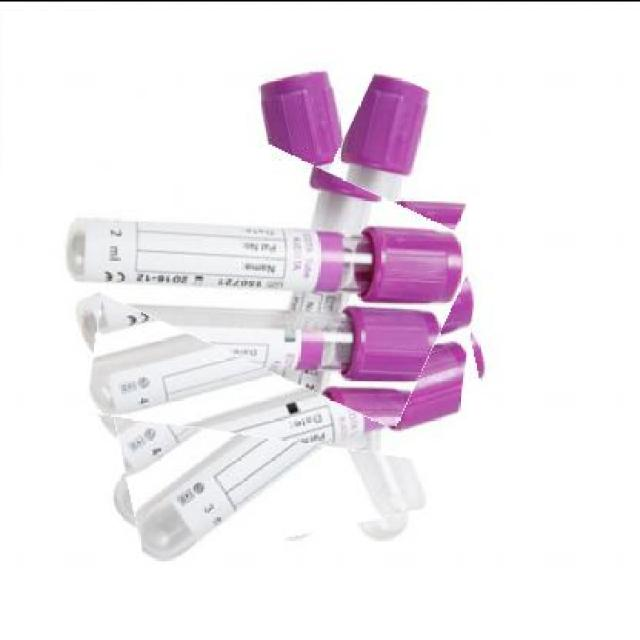Experimental-tube: (224, 69, 456, 551), (63, 118, 468, 392), (112, 301, 493, 547), (92, 225, 473, 449)
